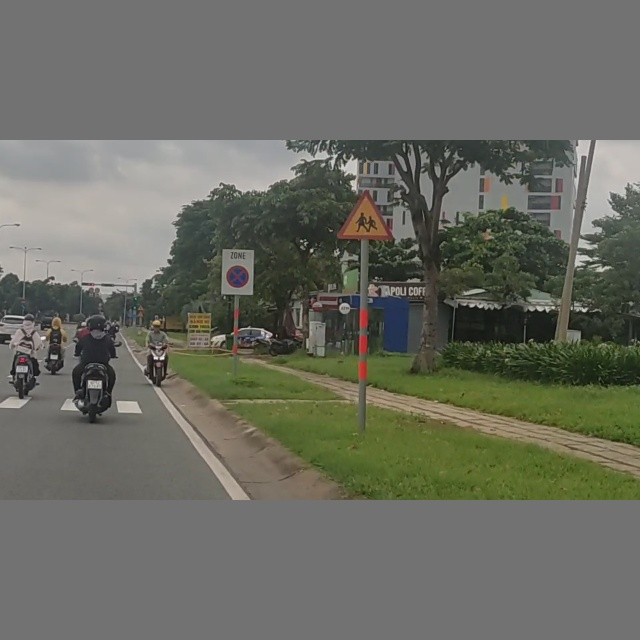P.102: (21, 299, 26, 304)
P.130: (227, 265, 249, 288)
R.302a: (21, 305, 26, 309)
W.225: (337, 190, 393, 239)
